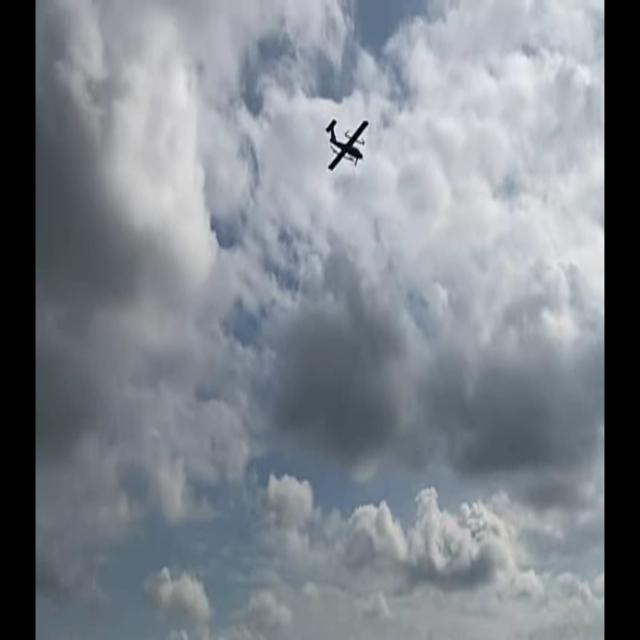iha: (326, 117, 370, 172)
